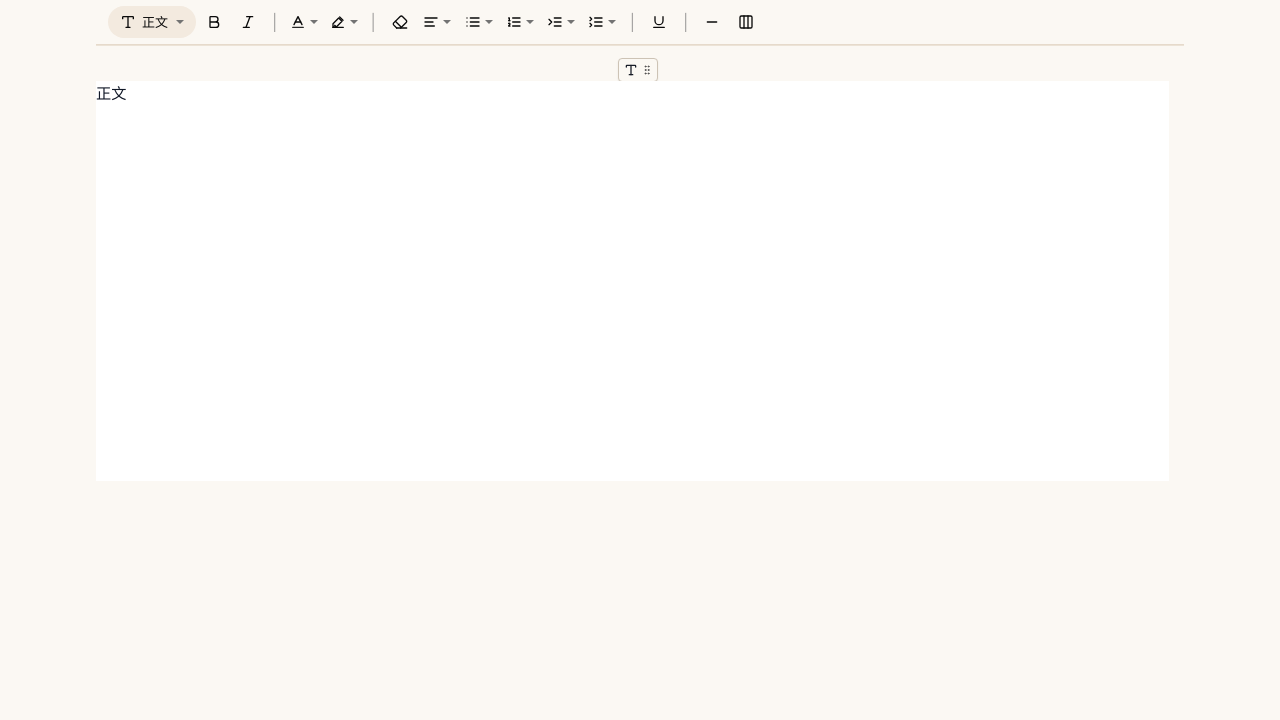
Test: columns toolbar › offers only meaningful two-column and three-column layouts
Click the button named "分栏" at (746, 22), box [730,6,762,38]
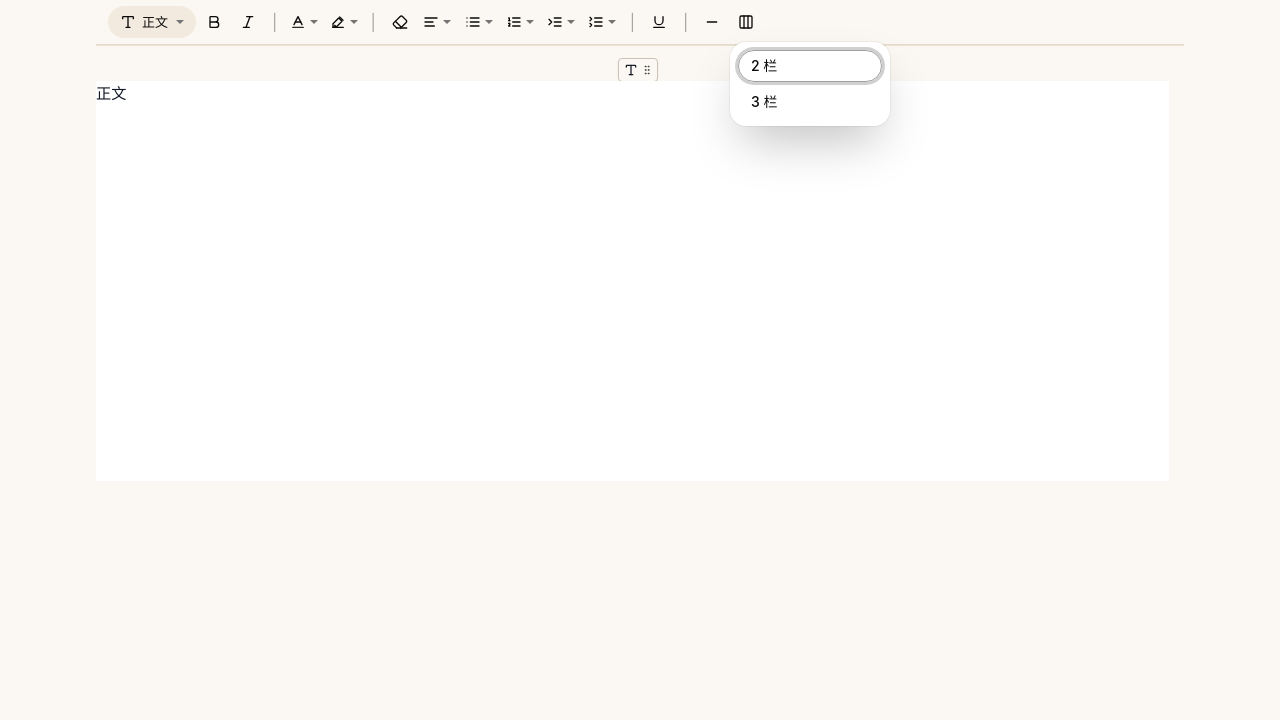
Check: the button "2 栏" is shown, box [738,50,882,82]
Check: the button "3 栏" is shown, box [738,86,882,118]
